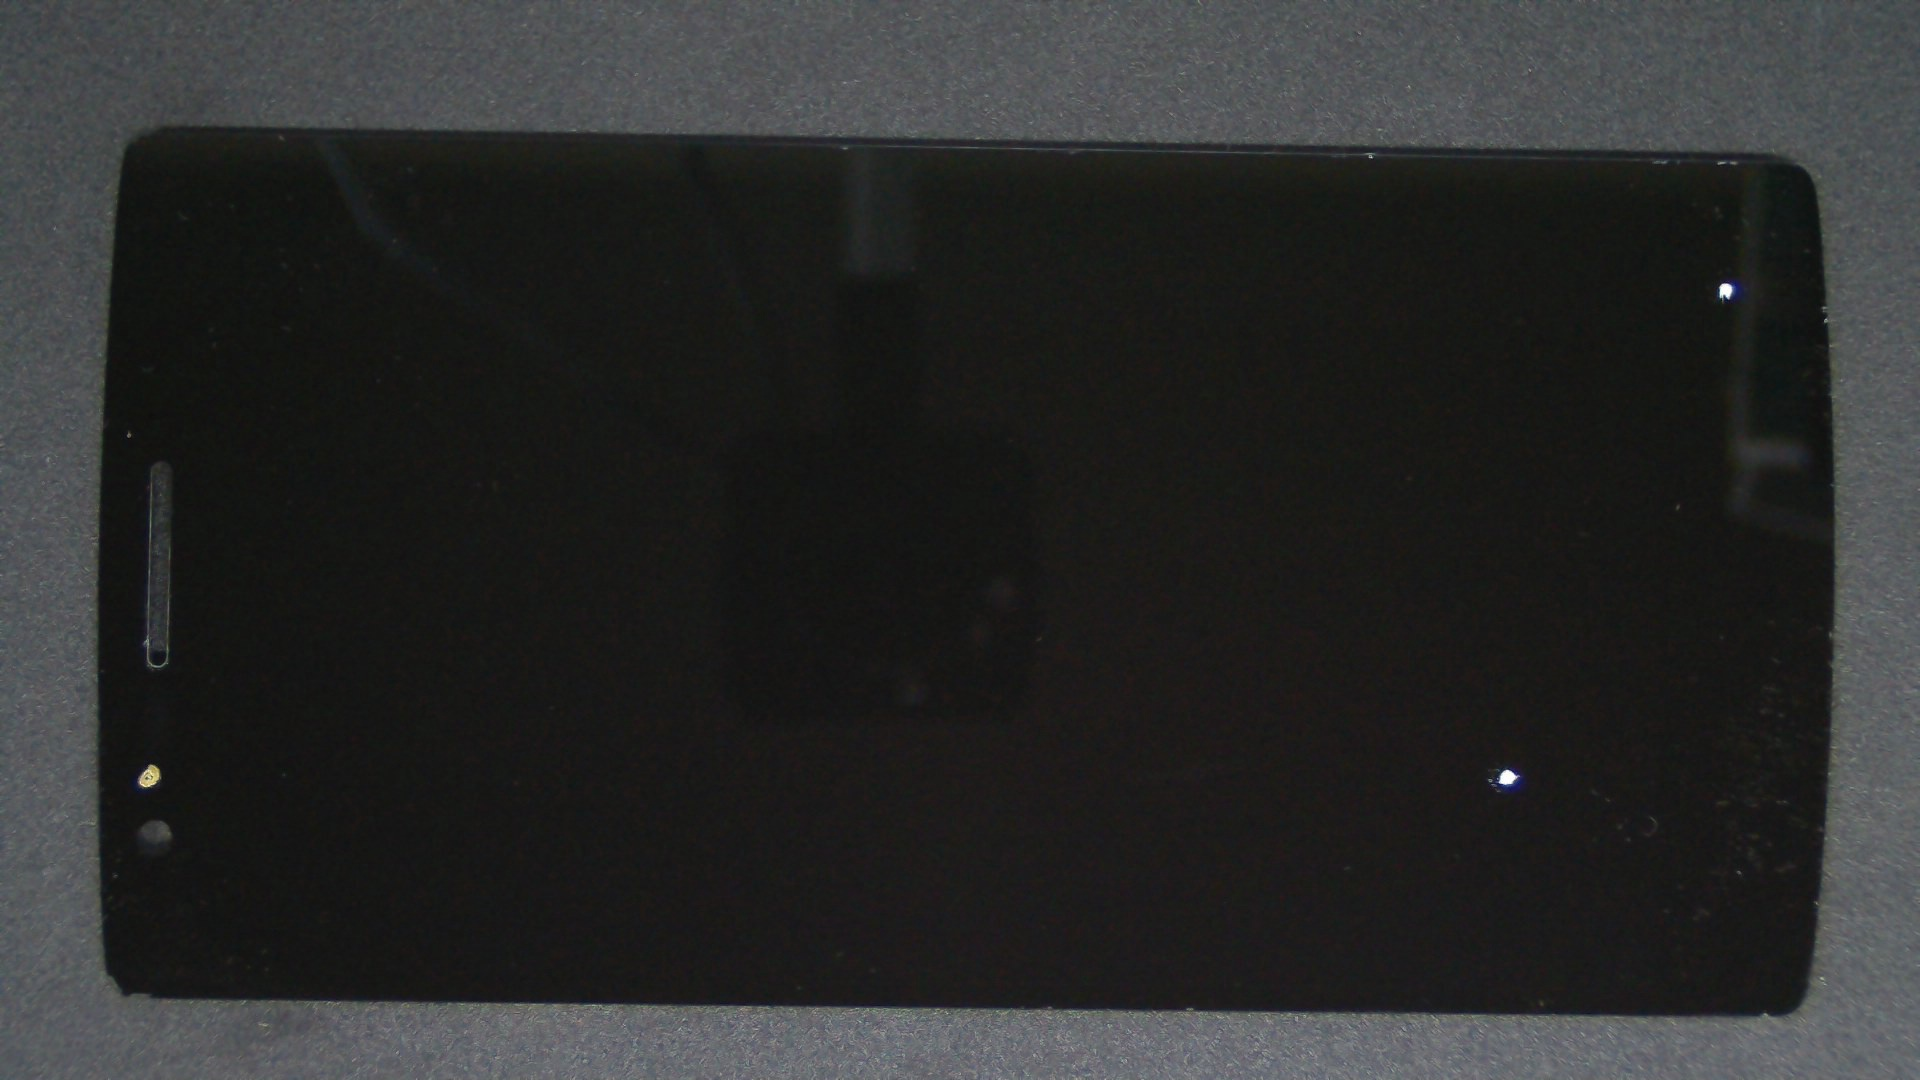oil: (753, 382, 1920, 1080), (865, 140, 1920, 422), (76, 381, 225, 1080)
